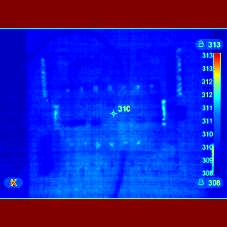Less: (131, 106, 175, 135)
